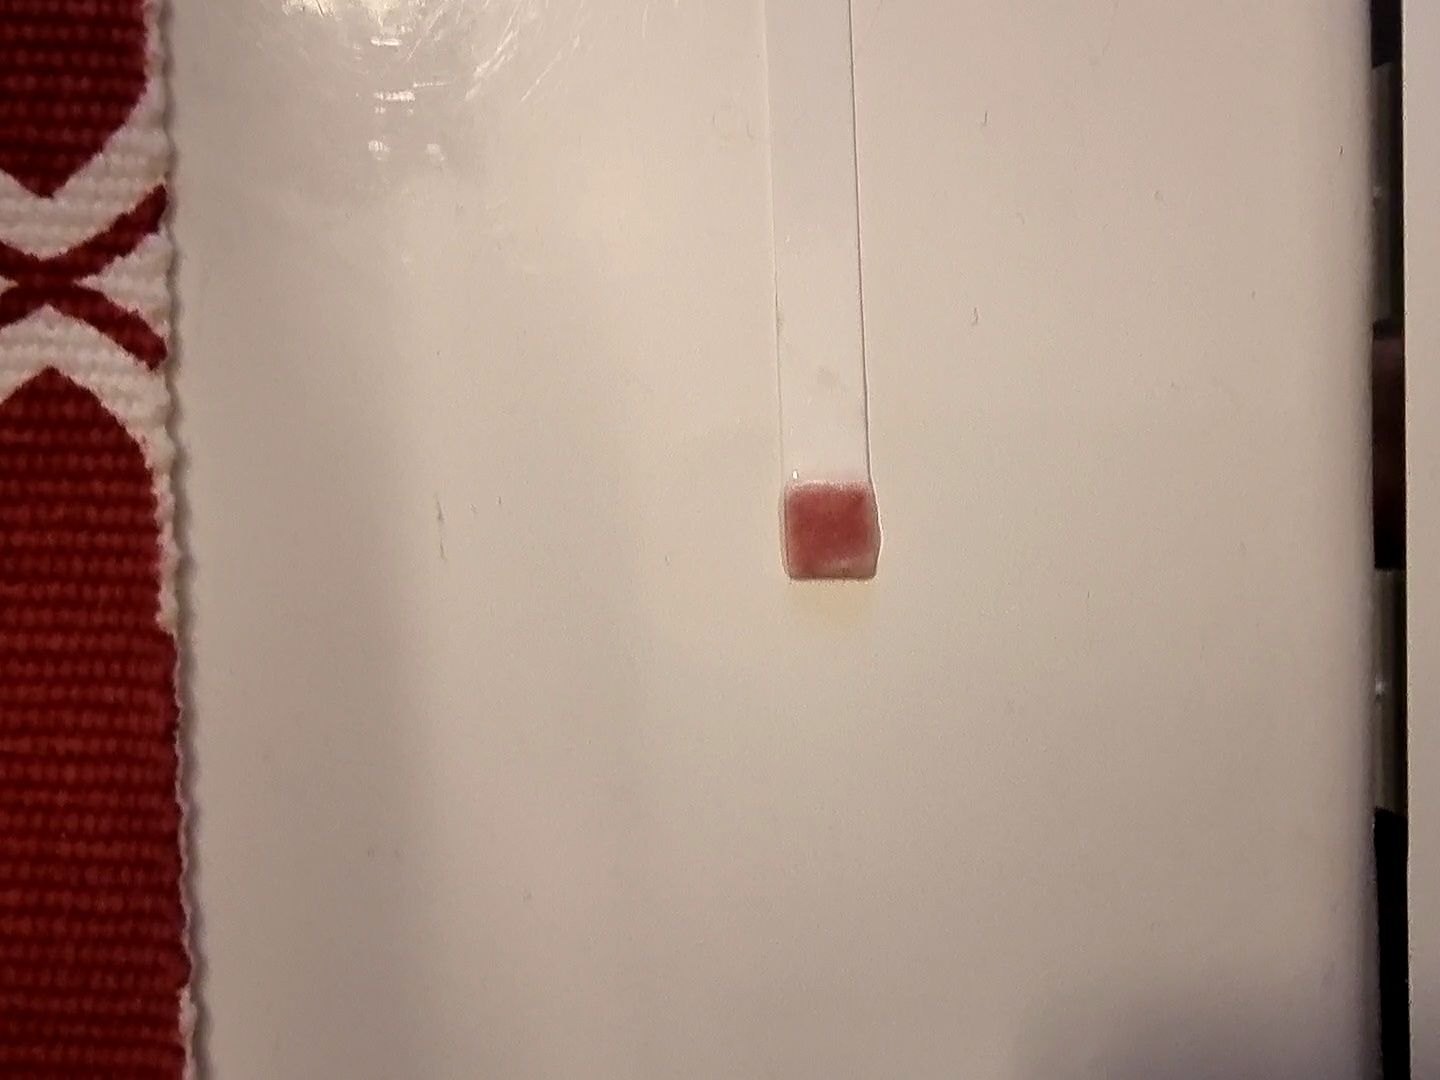keto-tip: (780, 479, 886, 583)
